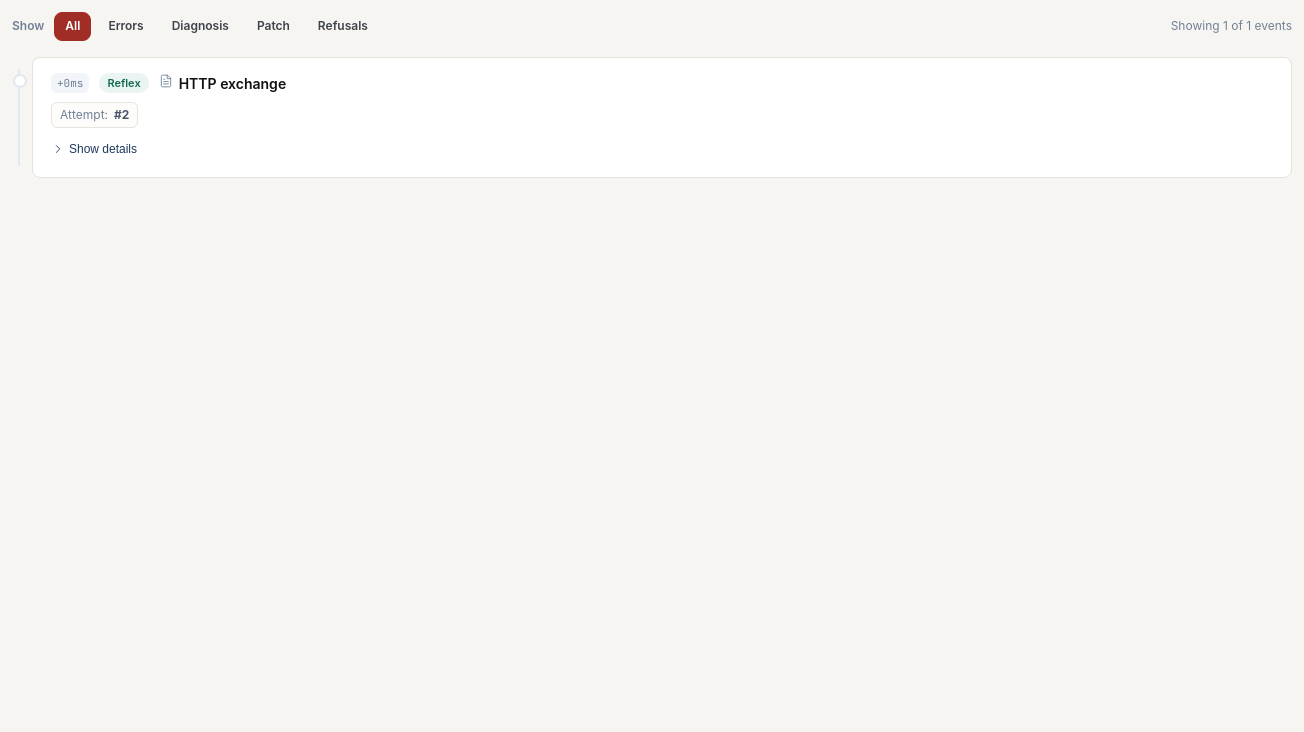
it: EventTimeline expansion › expands an http_exchange event into the shared ExchangeCard
This screenshot has width=1304, height=732.
Click the button "Show details". click: point(94, 149)
box: [51, 142, 137, 156]
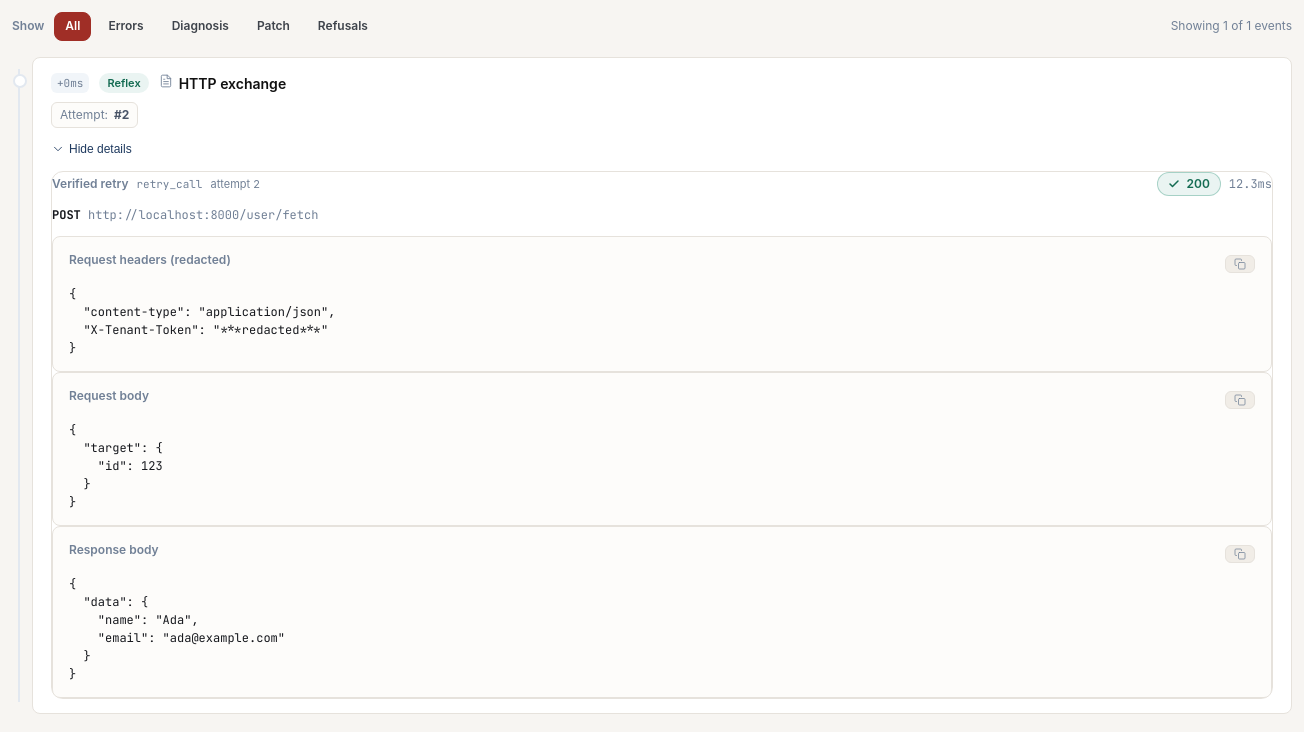
Check: the text "Verified retry" is shown, box [52, 175, 128, 193]
Check: the text "12.3ms" is shown, box [1229, 175, 1272, 193]
